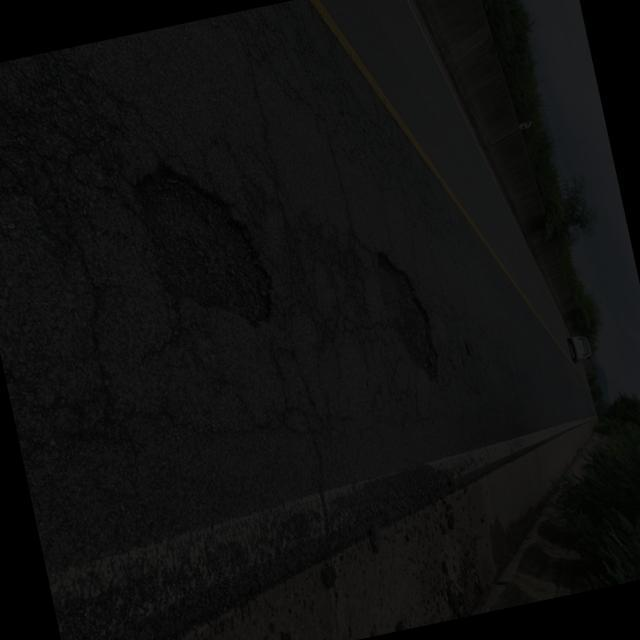pothole: (95, 98, 321, 378), (362, 236, 467, 400)
